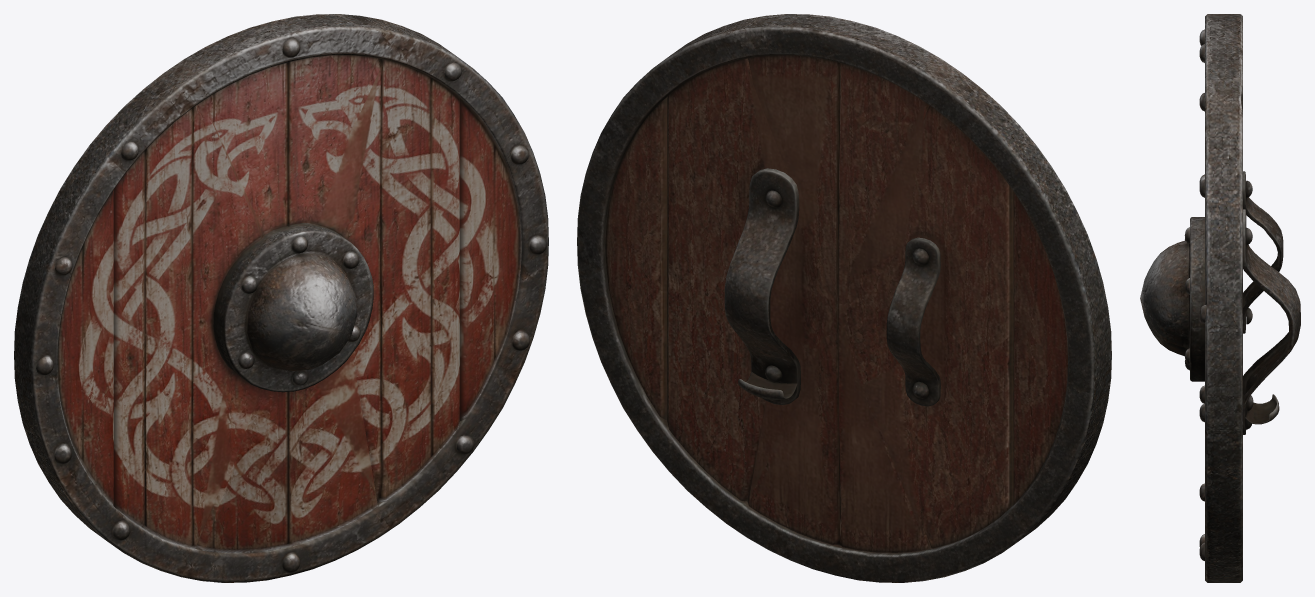
File: basit_baslangic_kalkan.fbx
3 views of the same model, side by side, from view 1: azimuth 30°, elevation 25°; view 2: azimuth 150°, elevation 25°; view 3: azimuth 270°, elevation 25° (orthographic). The views are drawn at different scales.
Visible parts, largest first — view 1: tripo_node_ee69cf88; view 2: tripo_node_ee69cf88; view 3: tripo_node_ee69cf88.
Part boxes in pixels (x1,y1,x2,y2): tripo_node_ee69cf88: (14,14,548,582); tripo_node_ee69cf88: (577,14,1111,582); tripo_node_ee69cf88: (1140,14,1300,582).
Size of the model in its own units: 1 by 1 by 0.2829.
Materials: 1 (1 with a texture image).
